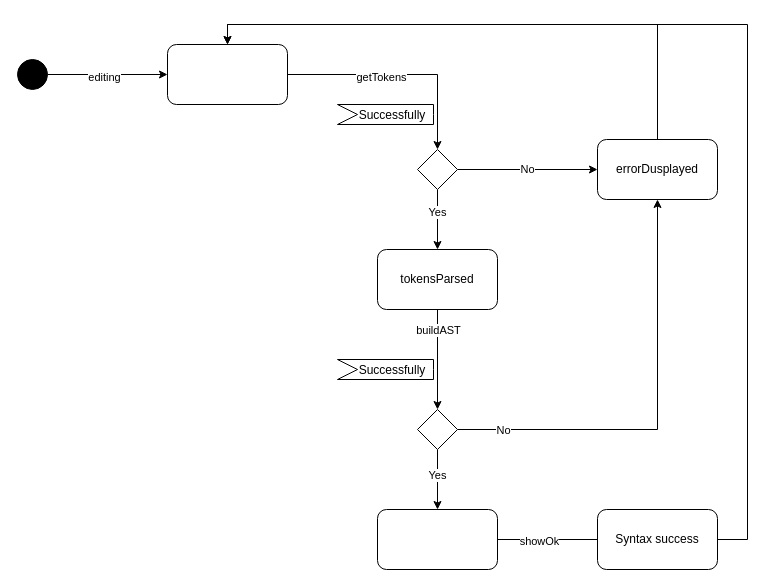
The diagram is 773 pixels wide and 587 high, and some of its shapes have lost their labels. Here are the shapes that lost their labels. From the top down, the centre of each, then its label:
At (227,74): "stageChanged".
At (437,539): "AST built".
